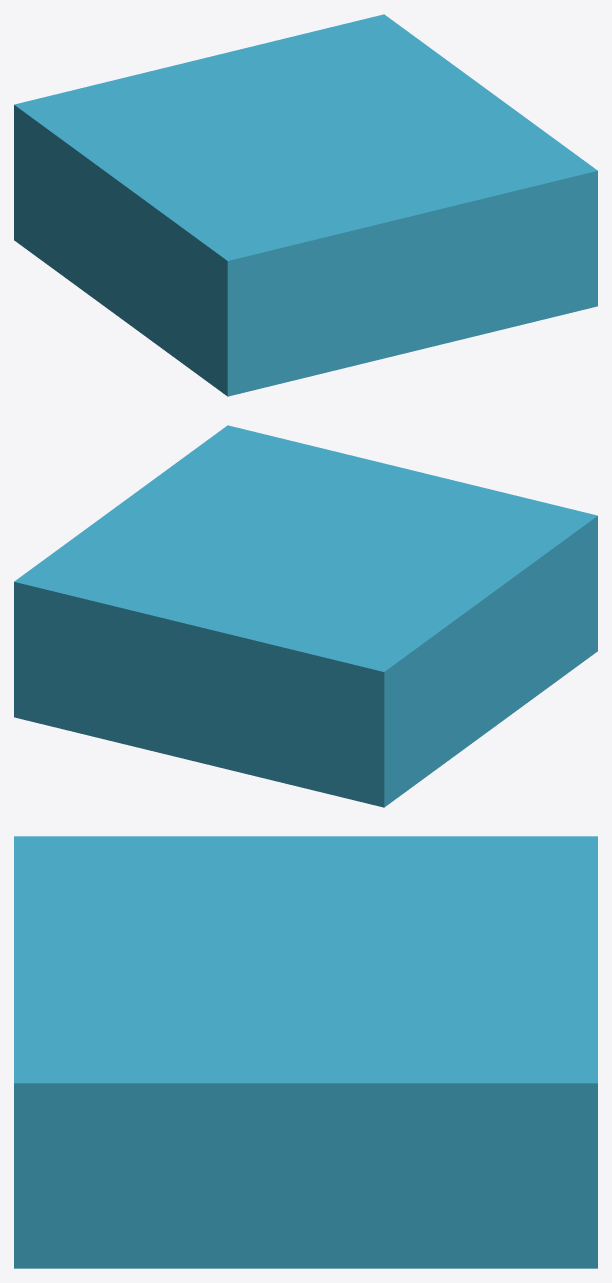
The model's file is Itr_Obj_Stickynote_Box_04.FBX.
3 renders of one model, top to bottom at view 1: azimuth 30°, elevation 25°; view 2: azimuth 150°, elevation 25°; view 3: azimuth 270°, elevation 25°, orthographic. The views are drawn at different scales.
Visible parts, largest first — view 1: Itr_Obj_Stickynote_Box_04; view 2: Itr_Obj_Stickynote_Box_04; view 3: Itr_Obj_Stickynote_Box_04.
Boxes of the visible parts, bbox=[...] form: Itr_Obj_Stickynote_Box_04: bbox=[14, 14, 597, 396]; Itr_Obj_Stickynote_Box_04: bbox=[14, 425, 597, 807]; Itr_Obj_Stickynote_Box_04: bbox=[14, 836, 597, 1268].
Size of the model in its own units: 3.94 by 1.38 by 3.94.
